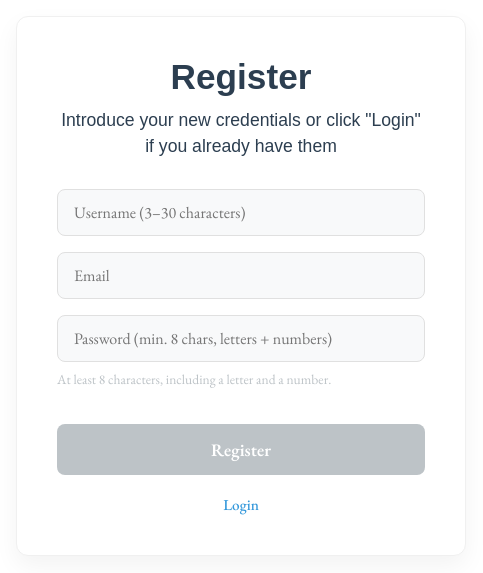
Register › enables the button for a valid password with letters and numbers
This screenshot has width=483, height=573.
Step 1. Type "validuser" into the field with placeholder "Username (3–30 characters)" → x=241, y=213, box [57, 189, 425, 236]
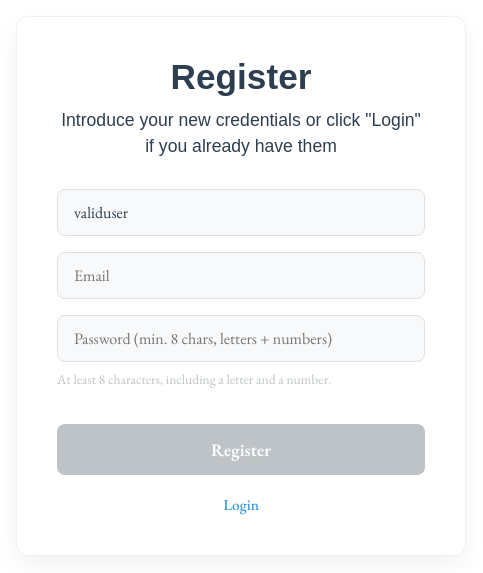
Step 2. Type "a@b.com" into the field with placeholder "Email" → x=241, y=276, box [57, 252, 425, 299]
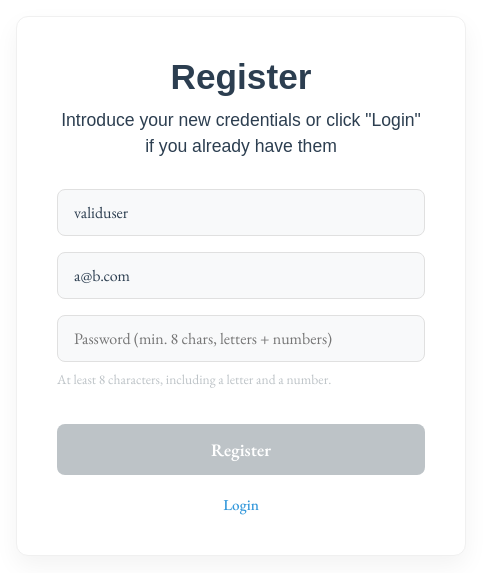
Step 3. Type "abc12345" into the password field with placeholder "Password (min. 8 chars, letters + numbers)" → x=241, y=339, box [57, 315, 425, 362]
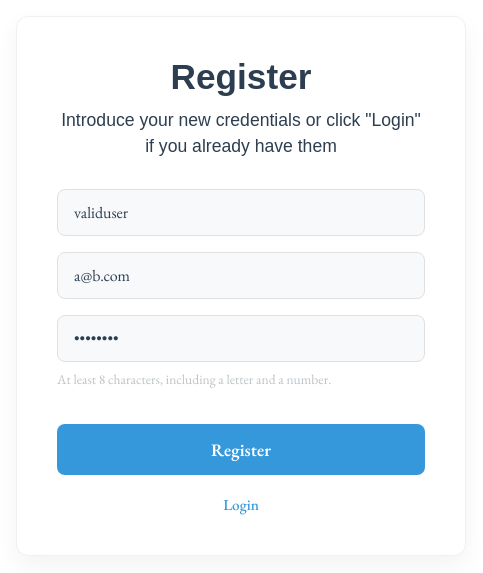
Now the button "Register" is enabled, box [57, 424, 425, 475]
